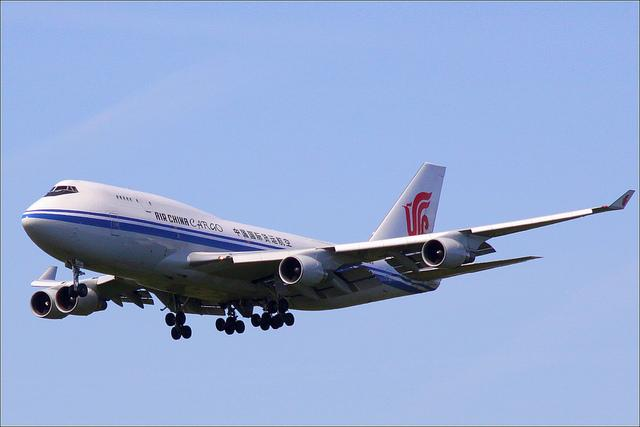airplane: (20, 160, 635, 342)
